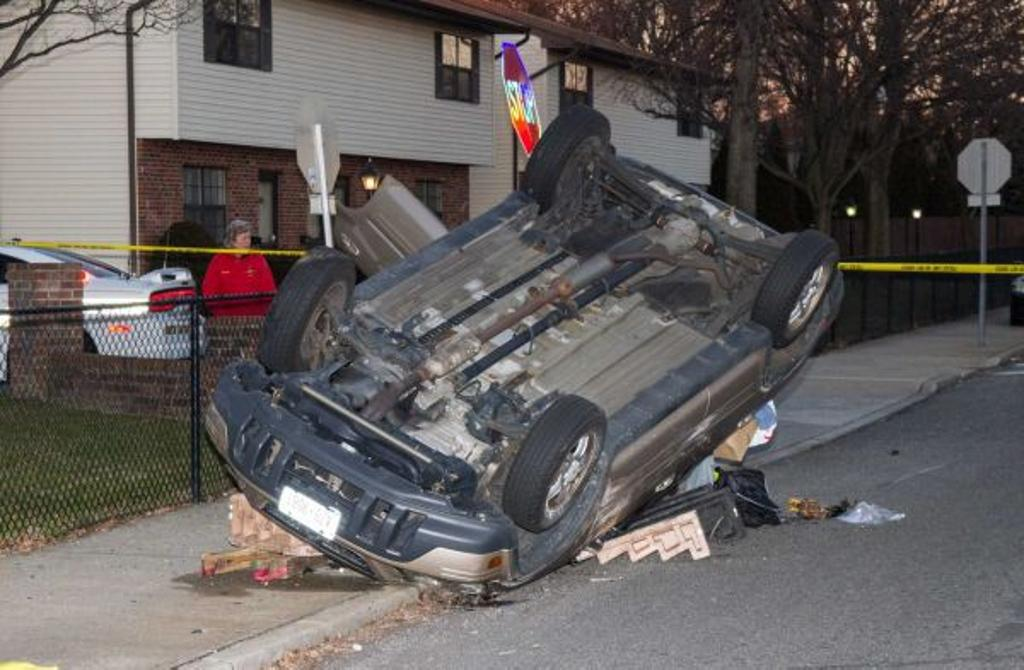face: (234, 233, 251, 255)
